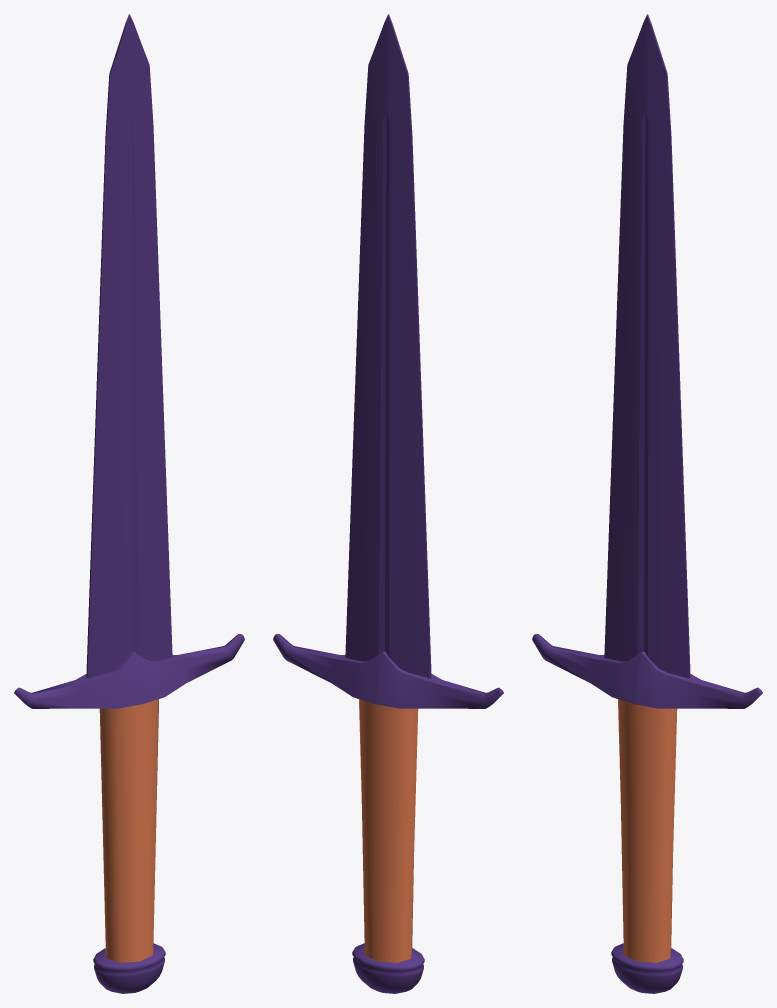
Rendered from Cryonite_Sword.fbx.
3 renders of one model, left to right at view 1: azimuth 30°, elevation 25°; view 2: azimuth 150°, elevation 25°; view 3: azimuth 330°, elevation 25°, orthographic.
Parts seen in each view (by area): view 1: Cryonite_Sword; view 2: Cryonite_Sword; view 3: Cryonite_Sword.
Part boxes in pixels (x1=…): Cryonite_Sword: x1=14, y1=14, x2=244, y2=993; Cryonite_Sword: x1=273, y1=14, x2=503, y2=993; Cryonite_Sword: x1=532, y1=14, x2=762, y2=993.
Size of the model in its own units: 0.1296 by 0.53 by 0.0274.
